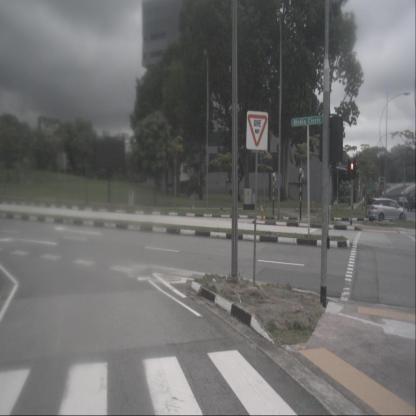cone: (260, 205, 264, 220)
